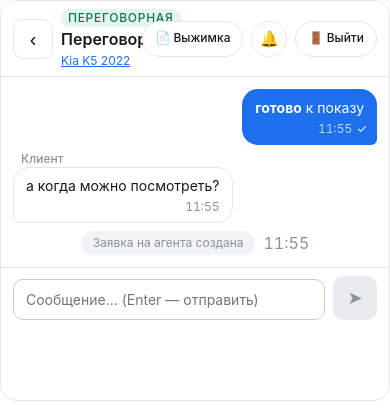
Test: PartnerChatRoom: group — mute/leave в шапке (08 §7) › mute-колокольчик: POST …/mute → 🔕; повтор → POST …/unmute → 🔔
Expected: the text "готово к показу" is shown, 255,98 -> 364,118
Click the button with test id "partner-mute-bell" at (270, 39), box 252,21 -> 288,57
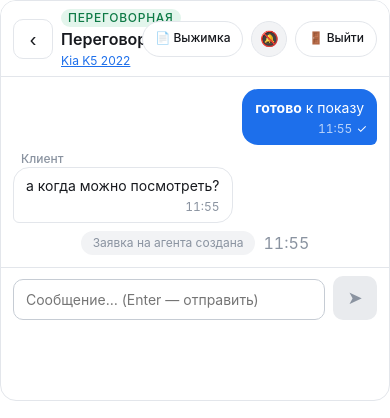
Expected: the button with test id "partner-mute-bell" reads "🔕"
Click the button with test id "partner-mute-bell" at (270, 39), box 252,21 -> 288,57
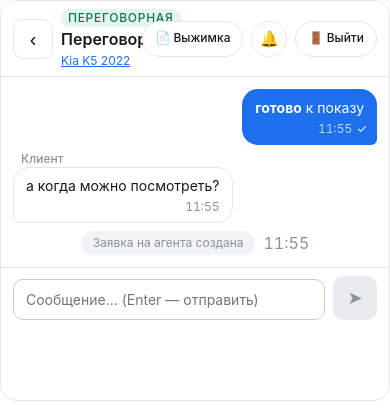
Expected: the button with test id "partner-mute-bell" reads "🔔", 252,21 -> 288,57
